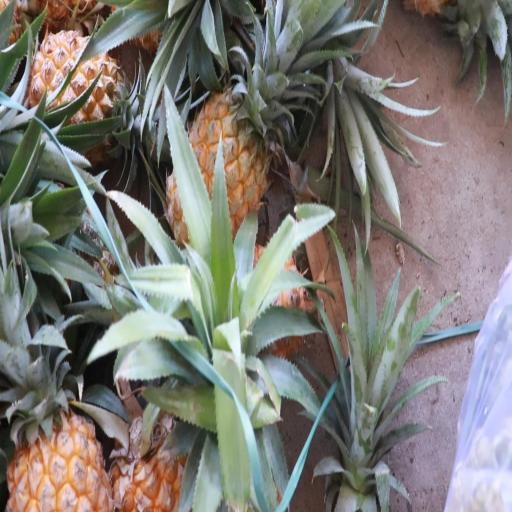Pineapple - v8 v1: (163, 59, 277, 253), (24, 21, 141, 173)
